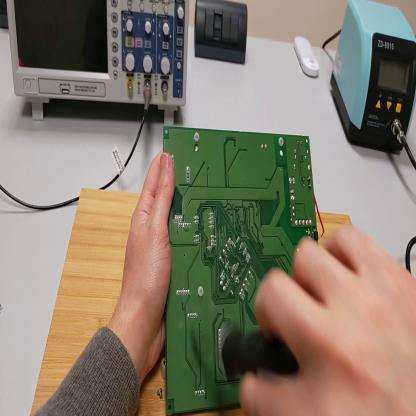hand: (242, 224, 415, 415), (121, 147, 177, 364)
low voltage board: (163, 125, 325, 416)
oscilloscope: (7, 2, 191, 126)
screwdriver-: (201, 319, 300, 378)
socket: (1, 1, 8, 29)
welder station: (330, 4, 416, 155)
working area: (32, 190, 355, 415)
